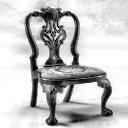chair_success: (17, 4, 122, 126)
